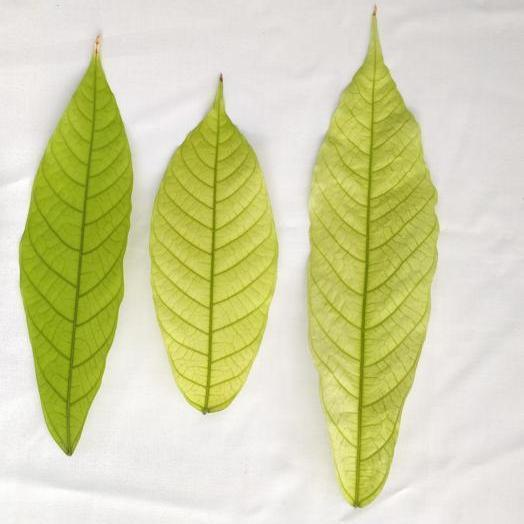Iron: (307, 10, 438, 506), (20, 38, 131, 454), (151, 77, 277, 412)
